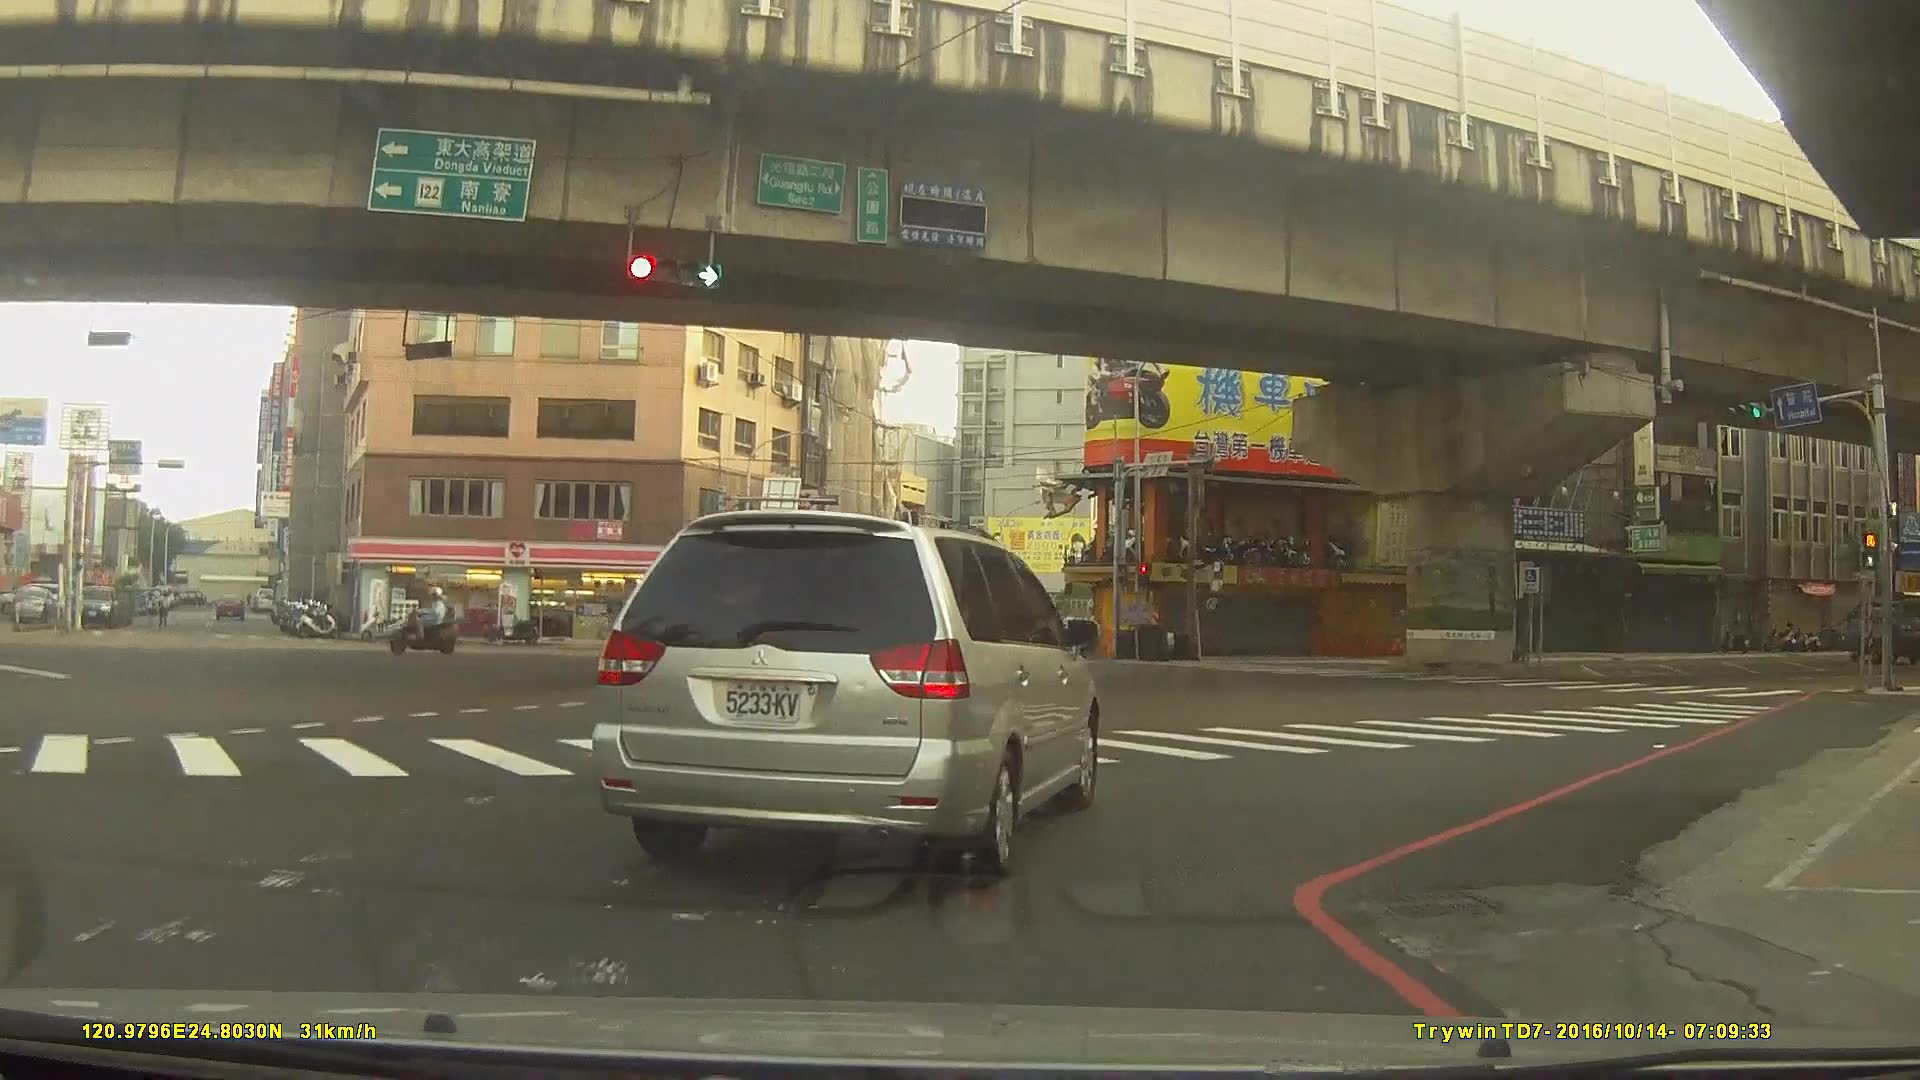rider: (392, 590, 460, 656), (1002, 598, 1063, 659)
vehicle: (588, 507, 1101, 878), (1847, 598, 1920, 664), (872, 627, 941, 666), (75, 583, 118, 628), (543, 606, 605, 633), (210, 591, 245, 621)
